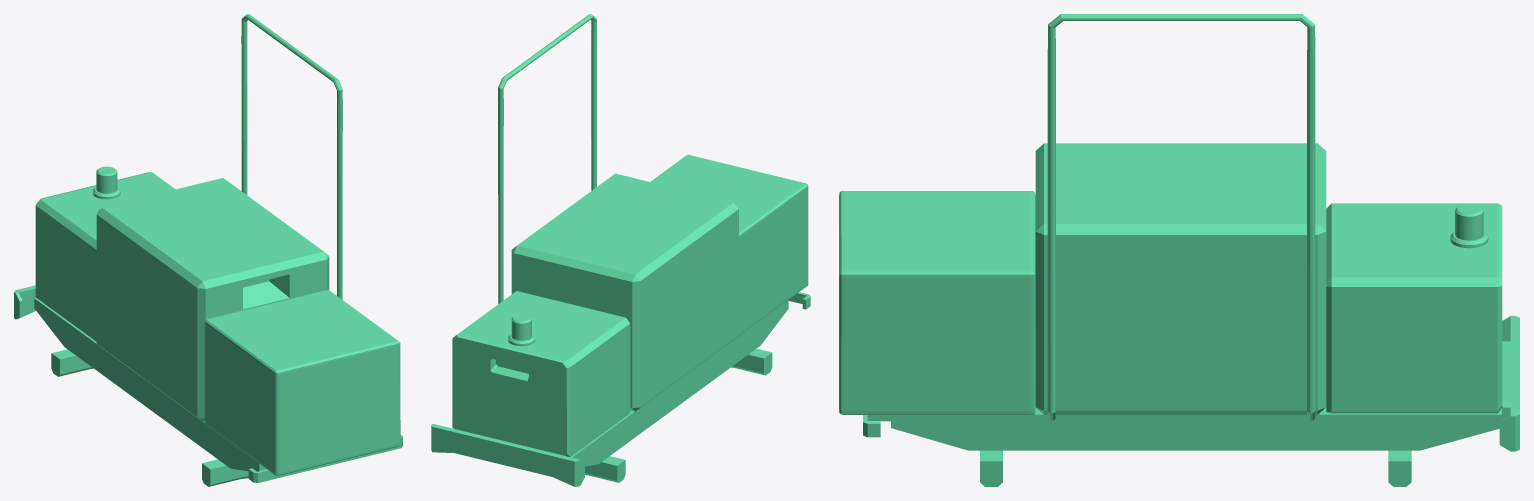
3 renders of one model, left to right at view 1: azimuth 30°, elevation 25°; view 2: azimuth 150°, elevation 25°; view 3: azimuth 270°, elevation 25°, orthographic. The views are drawn at different scales.
Visible parts, largest first — view 1: base_link; view 2: base_link; view 3: base_link.
Boxes of the visible parts, x1,y1,x2,y2 form: base_link: [14, 14, 402, 486]; base_link: [431, 14, 810, 486]; base_link: [839, 14, 1519, 486].
Bounding box in the file's own units: 122 × 259 × 333.
